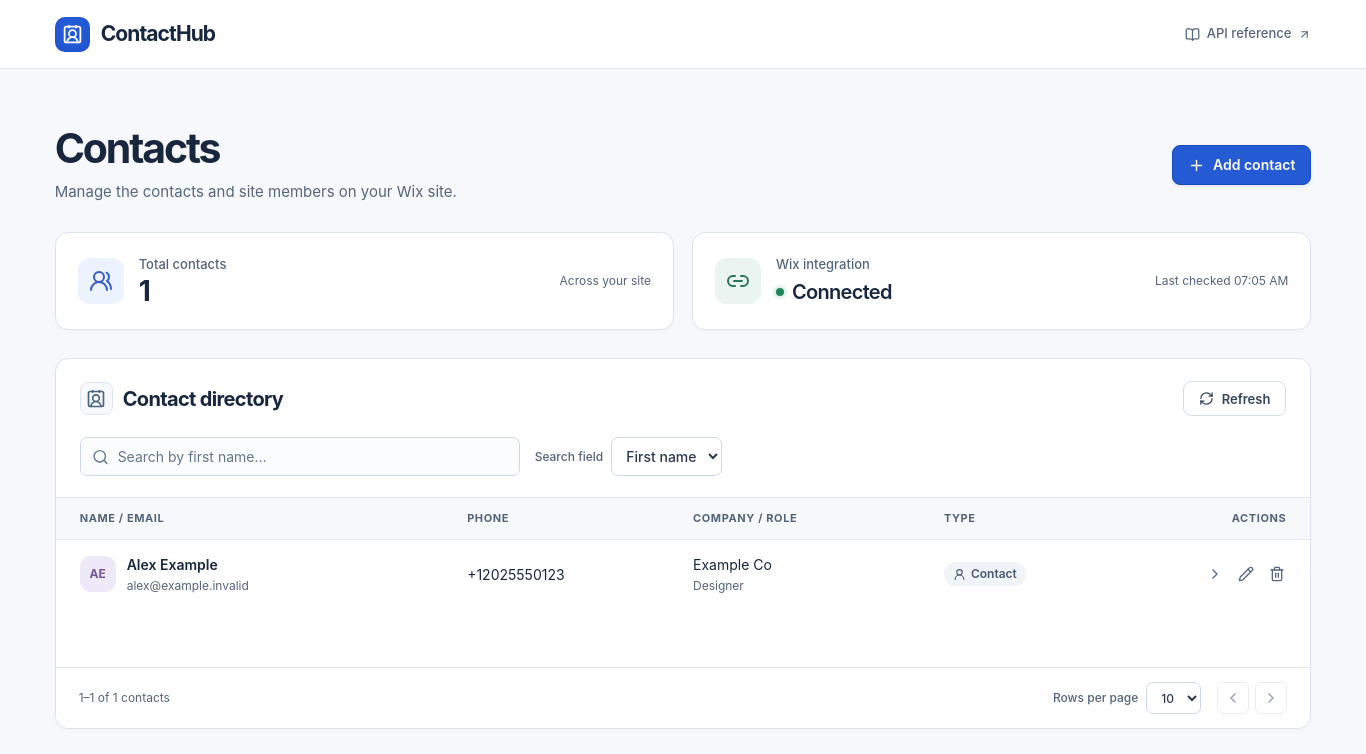
Test: keeps update success separate from a failed directory refresh
Check: the text "Connected" is shown, box [776,277,892,307]
Click the button named "Edit Alex Example · alex@example.invalid · +12025550123".
click(1246, 574)  # box [1230,558,1261,590]
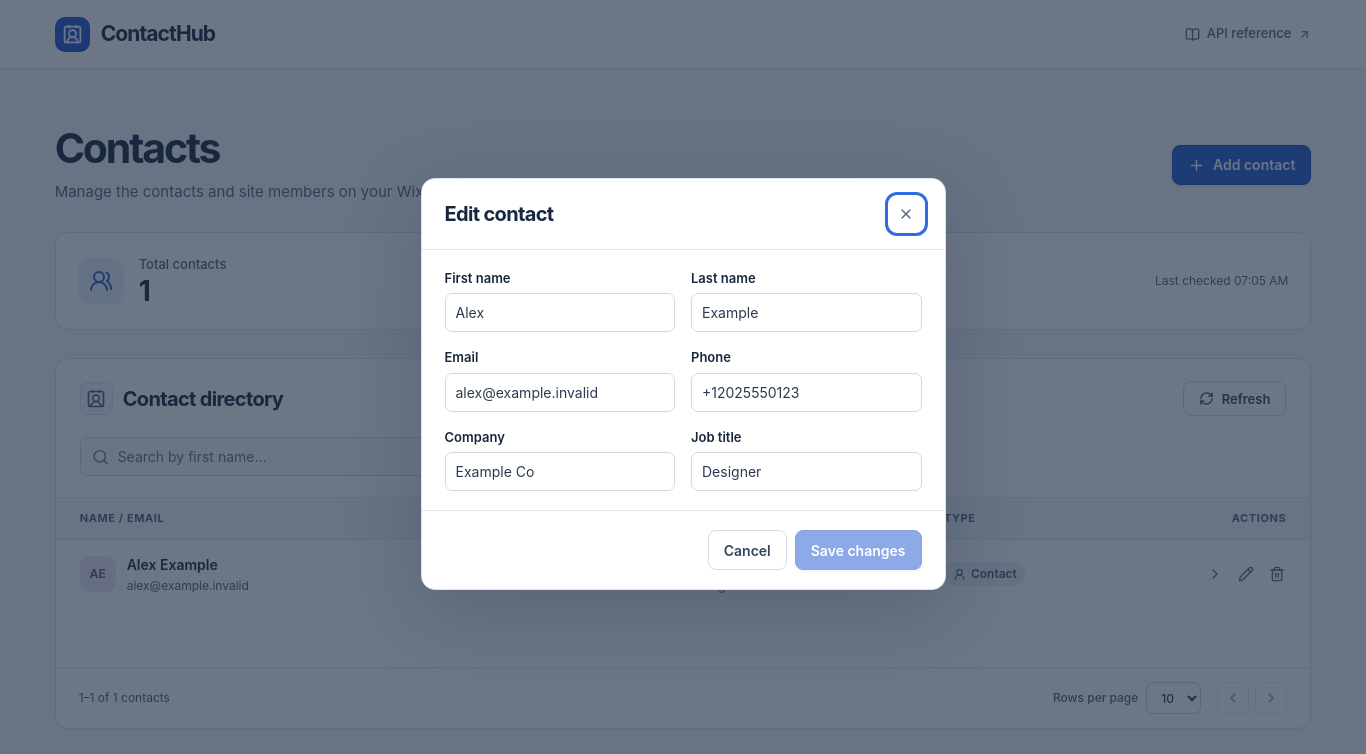
Check: the field showing "Alex" is shown, box [444,293,675,332]
Replace the text in the field labelled "Company" with "Updated" at (560, 472), box [444,452,675,491]
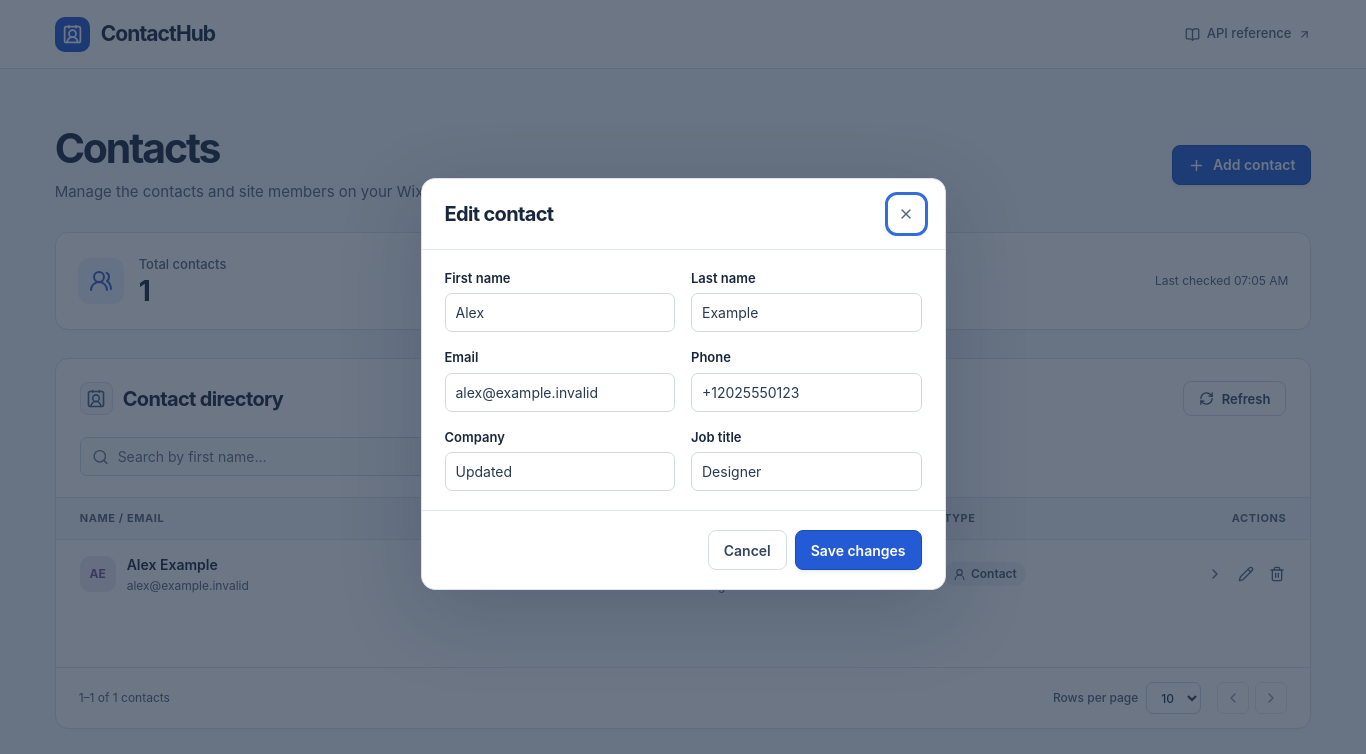
Click the button "Save changes".
click(858, 550)  # box [795,530,922,570]
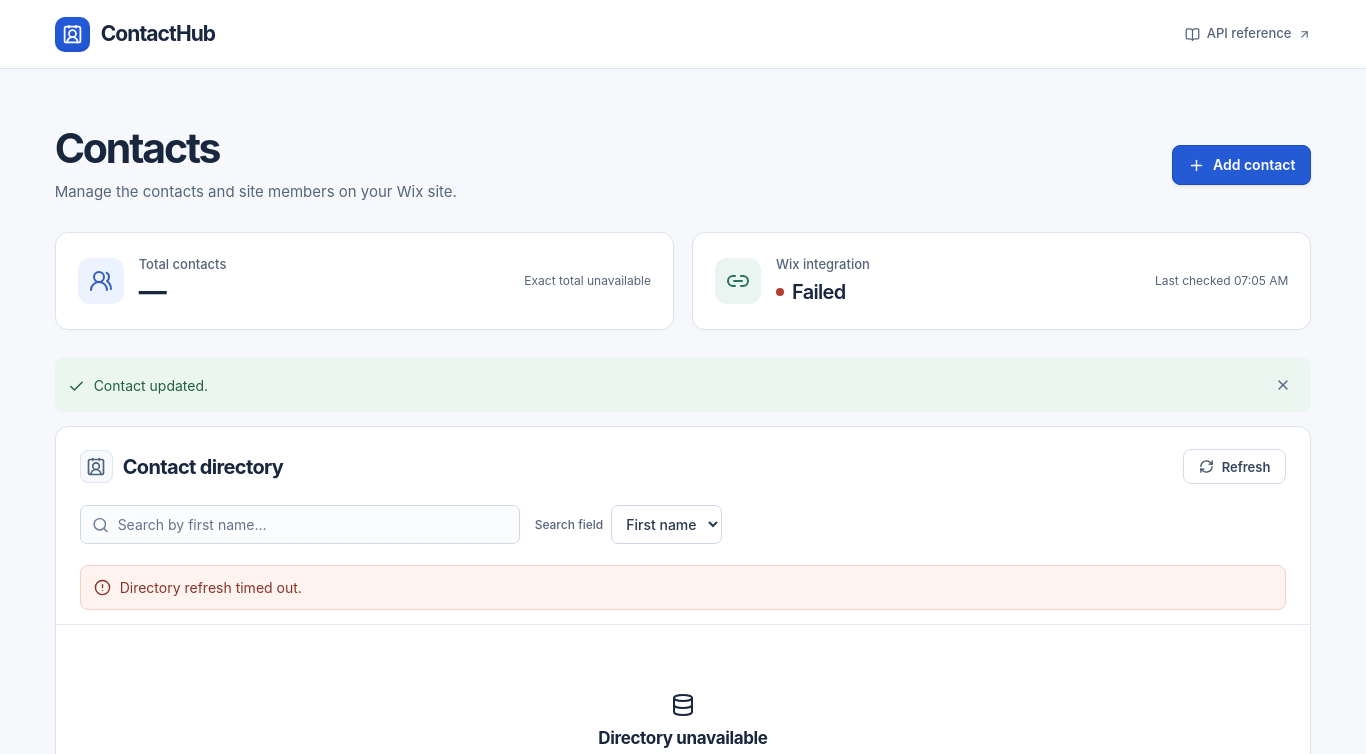
Check: the text "Directory refresh timed out." is shown, box [120,577,302,598]
Check: the text "Contact updated." is shown, box [55,358,1311,412]
Check: the heading "Directory unavailable" is shown, box [598,726,768,751]
